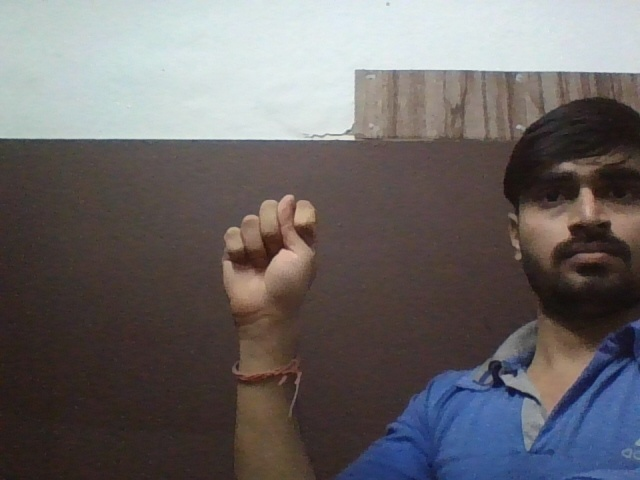T: (208, 190, 327, 339)
